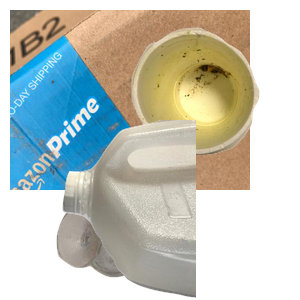cardboard: (10, 10, 250, 190)
glass: (54, 202, 193, 300)
plastic: (60, 120, 300, 300)
trash: (129, 25, 300, 173)
